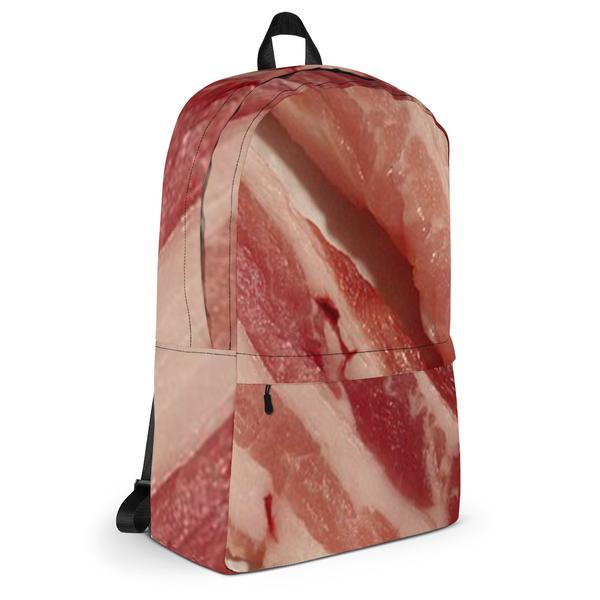bacon: (165, 77, 465, 523)
